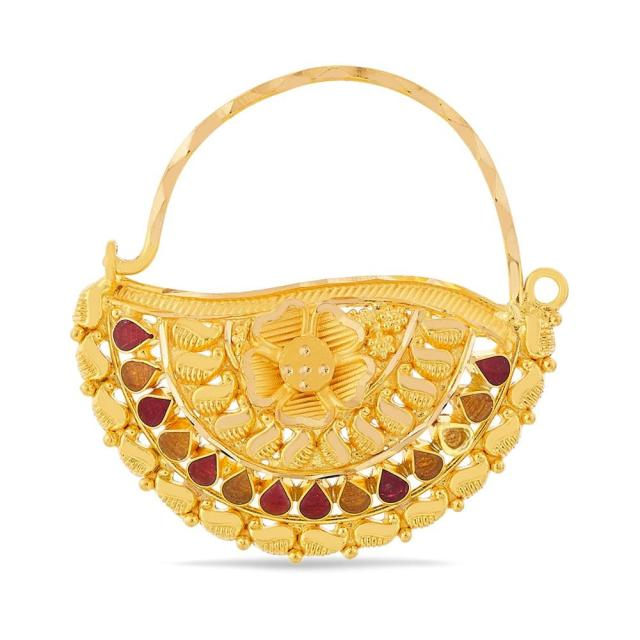missing gem: (441, 427, 471, 451)
